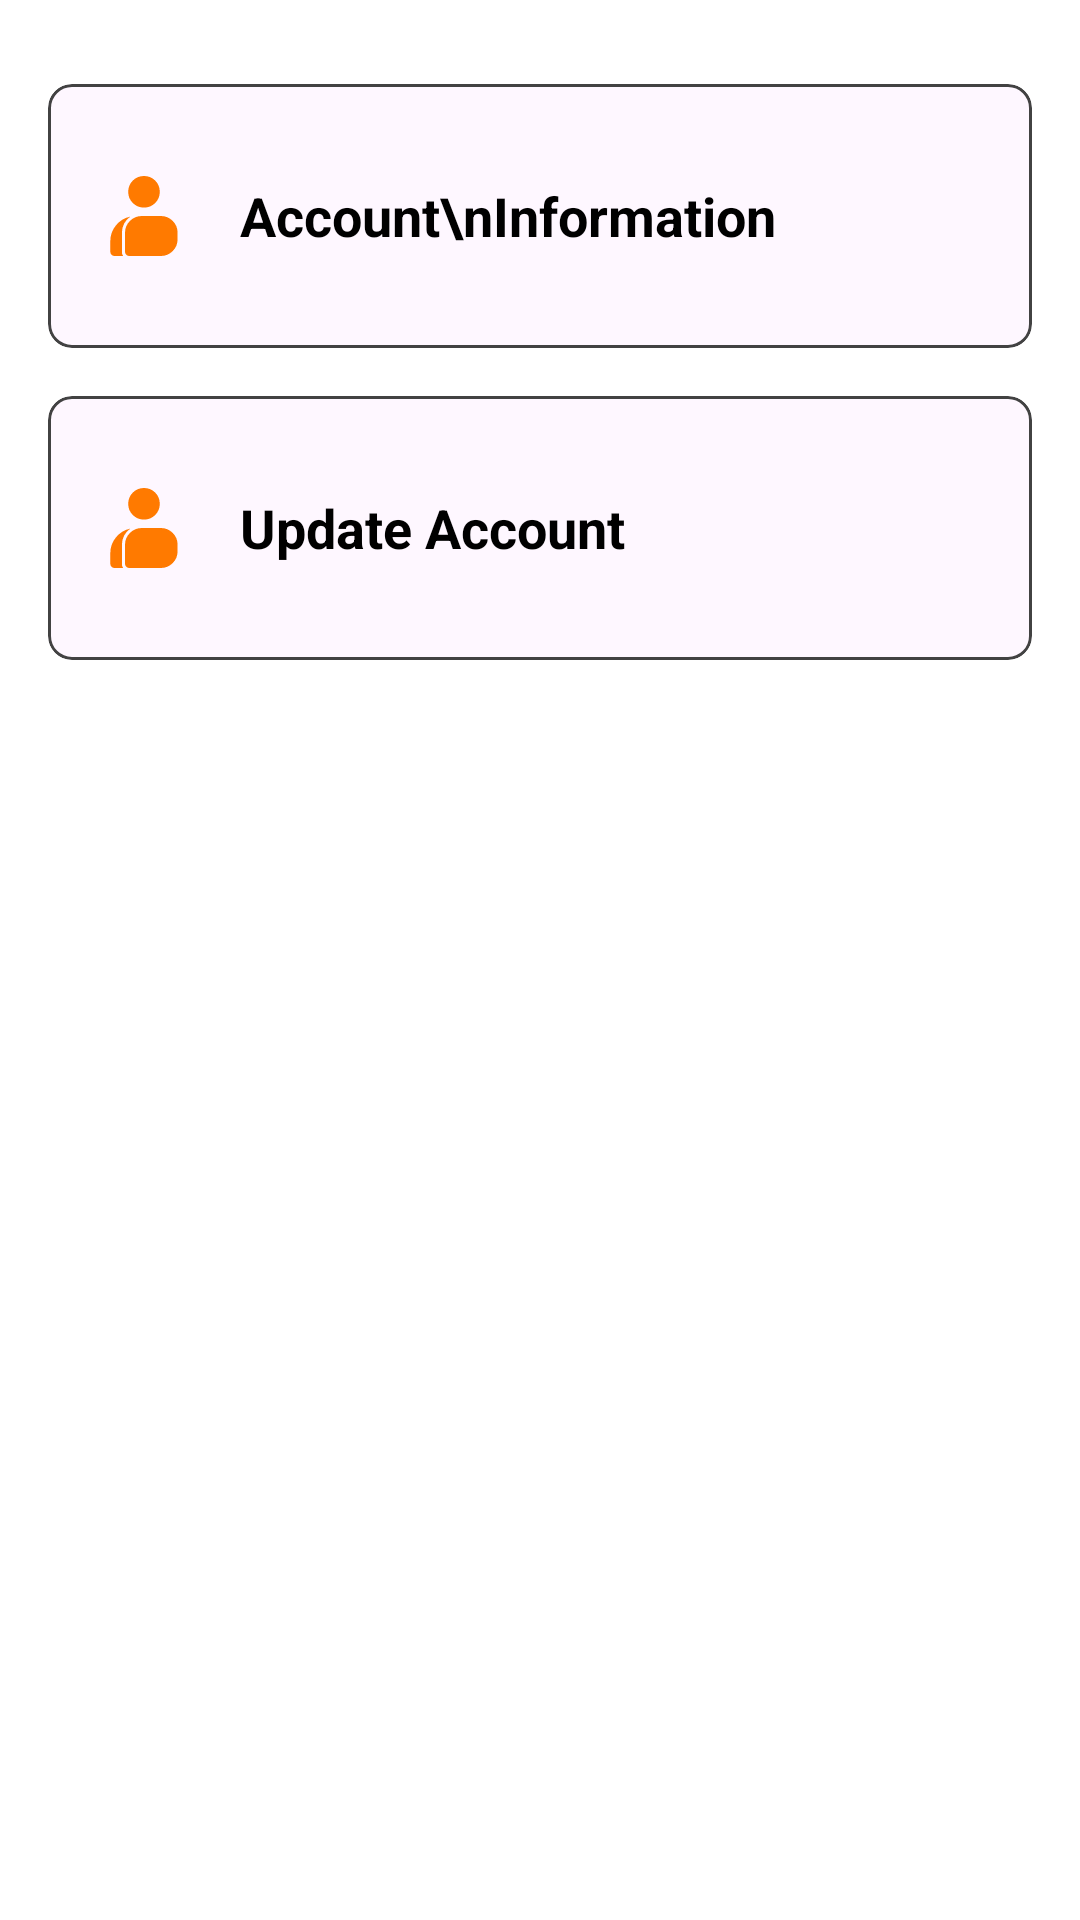

Screen size 1080px×1920px. Icon name, then its center in pixels as (x=x, y=y):
person: (x=144, y=216), (x=144, y=528)
